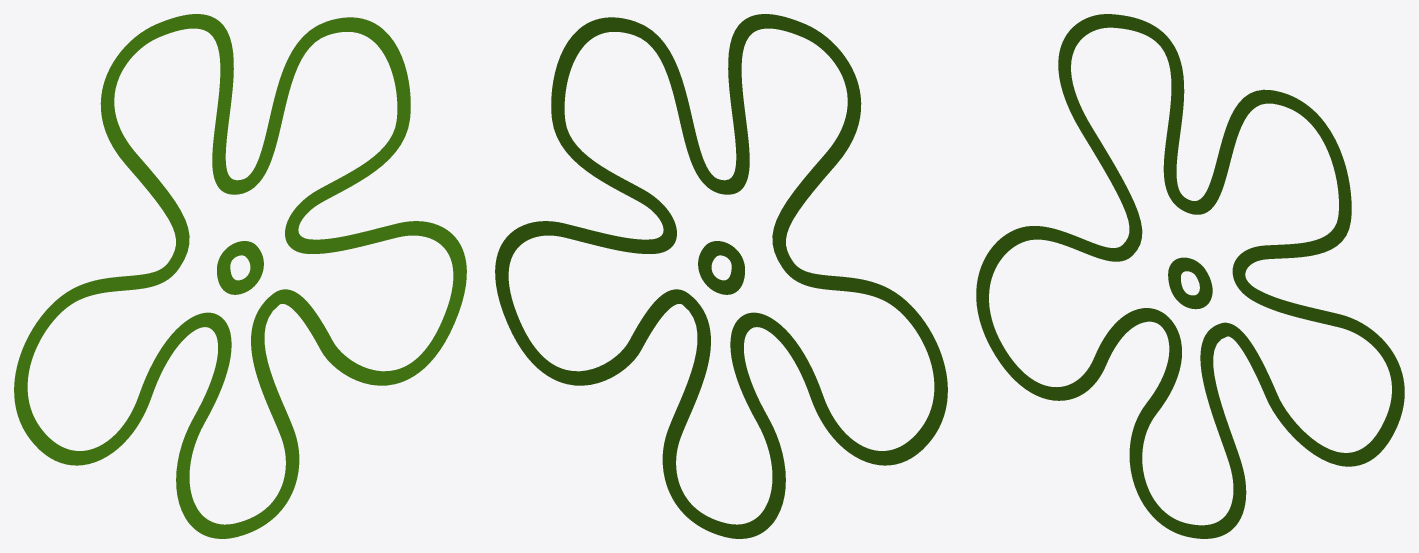
File: flower_2.obj
The picture shows the model from 3 angles, left to right: view 1: azimuth 30°, elevation 25°; view 2: azimuth 150°, elevation 25°; view 3: azimuth 330°, elevation 25°; orthographic projection. The views are drawn at different scales.
Visible parts, largest first — view 1: flower_2; view 2: flower_2; view 3: flower_2.
Part boxes in pixels (x1,y1,x2,y2): flower_2: (14, 14, 466, 538); flower_2: (495, 14, 947, 538); flower_2: (976, 14, 1404, 538).
Bounding box in the file's own units: 3.9 × 4.4 × 0.
